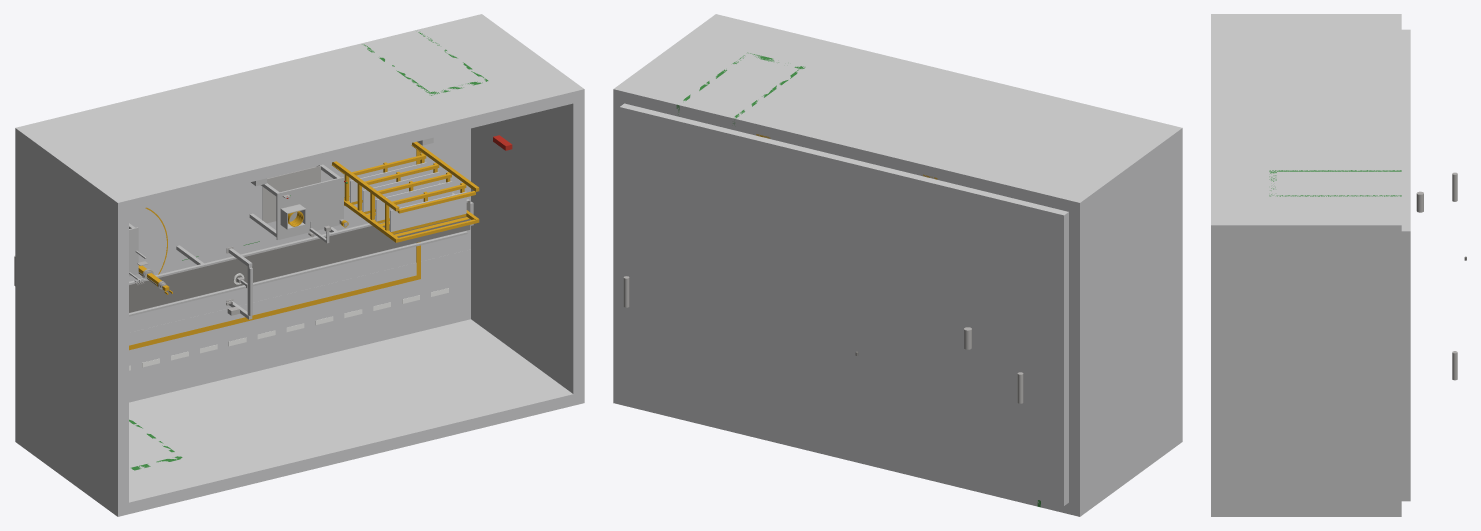
Rendered from Assembly Digital Twin Final.obj.
3 renders of one model, left to right at view 1: azimuth 30°, elevation 25°; view 2: azimuth 150°, elevation 25°; view 3: azimuth 270°, elevation 25°, orthographic. The views are drawn at different scales.
Visible parts, largest first — view 1: Wall_Back, Wall_Front, Wall_Left, Wall_Right, Walkway_Front, Floor_Epoxy, Conv_Belt, PK_WorkSurface, SafeLine_F, Rack_Deck_S4, PK_Shelf, Conv_GuideL (+4 smaller); view 2: Floor_Slab, Wall_Back, Wall_Left, Wall_Front, Wall_Right; view 3: Wall_Right, Wall_Back, Floor_Slab, Wall_Front.
Part boxes in pixels (bbox=[...]): Wall_Back: bbox=[15, 14, 584, 214]; Wall_Front: bbox=[15, 319, 584, 516]; Wall_Left: bbox=[15, 140, 128, 505]; Wall_Right: bbox=[471, 101, 584, 393]; Walkway_Front: bbox=[129, 249, 470, 402]; Floor_Epoxy: bbox=[129, 128, 470, 332]; Conv_Belt: bbox=[129, 200, 470, 312]; PK_WorkSurface: bbox=[276, 177, 343, 240]; SafeLine_F: bbox=[129, 274, 420, 350]; Rack_Deck_S4: bbox=[390, 192, 466, 231]; PK_Shelf: bbox=[262, 165, 320, 223]; Conv_GuideL: bbox=[129, 231, 467, 316]; Floor_Slab: bbox=[619, 103, 1068, 505]; Wall_Back: bbox=[613, 14, 1182, 214]; Wall_Left: bbox=[1069, 140, 1182, 505]; Wall_Front: bbox=[613, 391, 1182, 516]; Wall_Right: bbox=[613, 101, 623, 392]; Wall_Right: bbox=[1211, 236, 1401, 506]; Wall_Back: bbox=[1211, 14, 1401, 236]; Floor_Slab: bbox=[1401, 29, 1410, 501]; Wall_Front: bbox=[1211, 506, 1401, 516].
Bounding box in the file's own units: 840 × 540 × 430.
